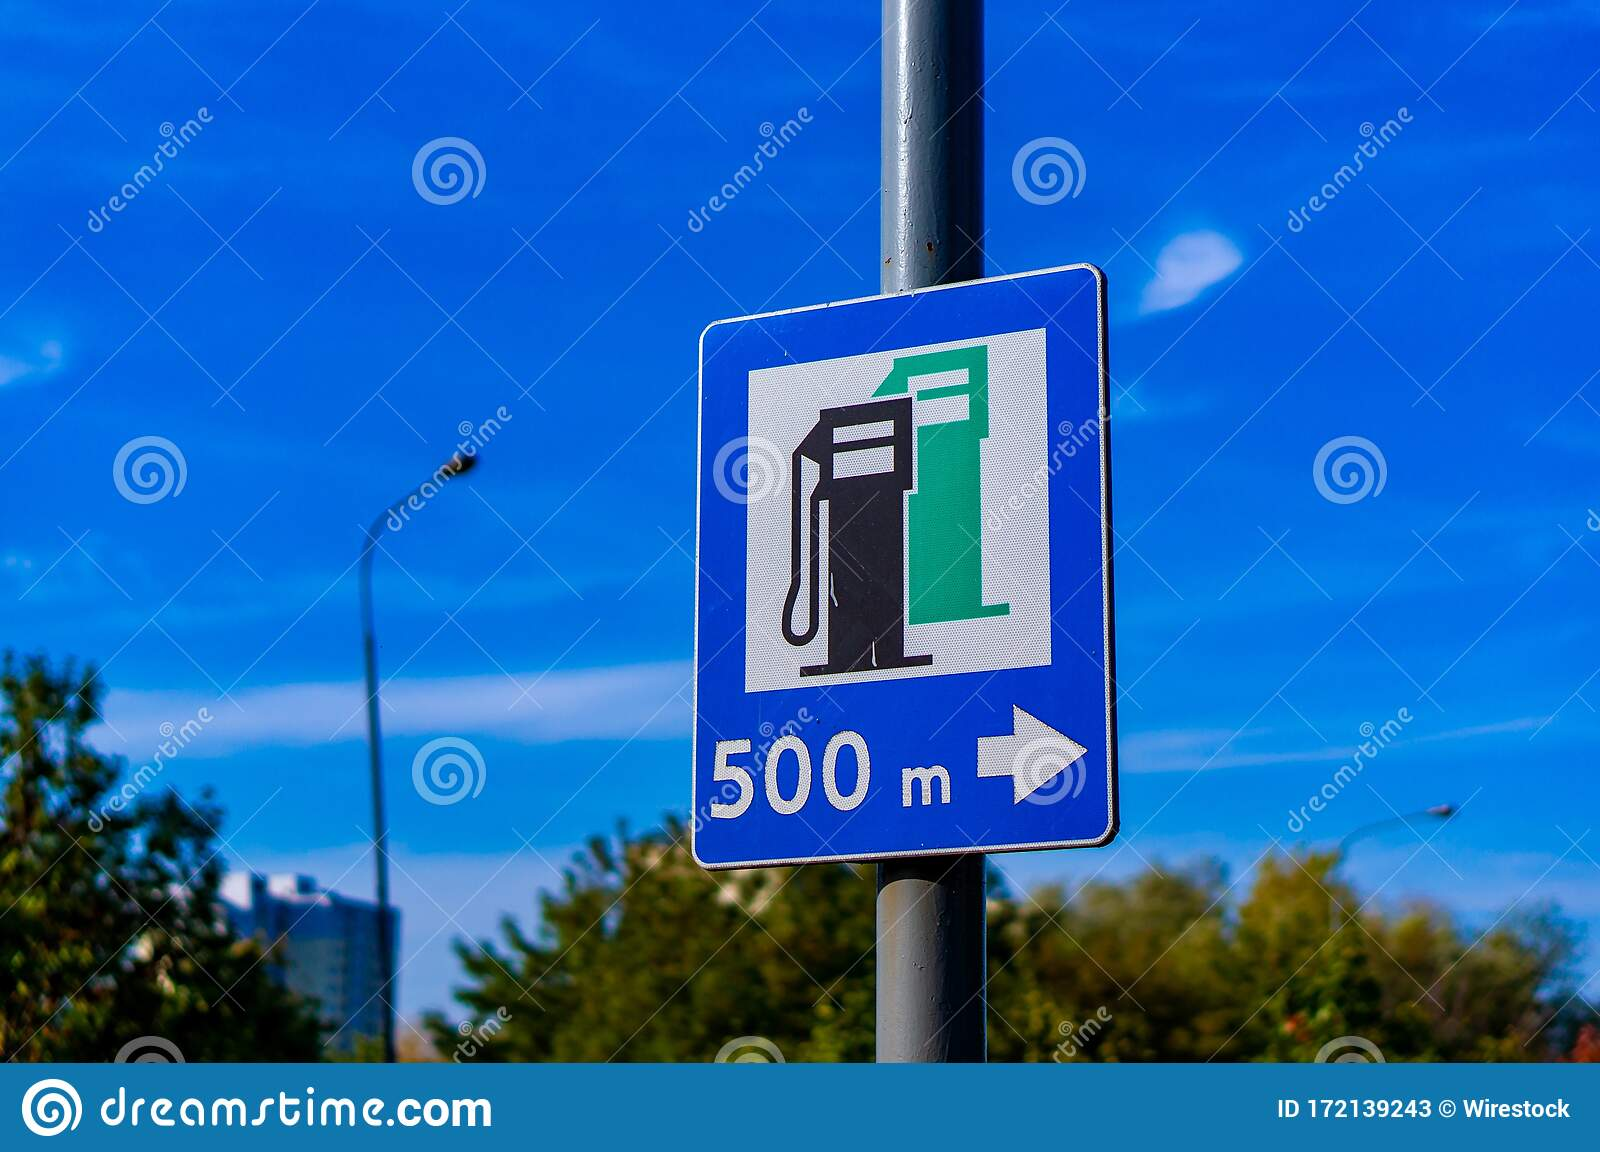fuel-station: (742, 336, 1046, 683)
right turn: (966, 702, 1088, 797)
